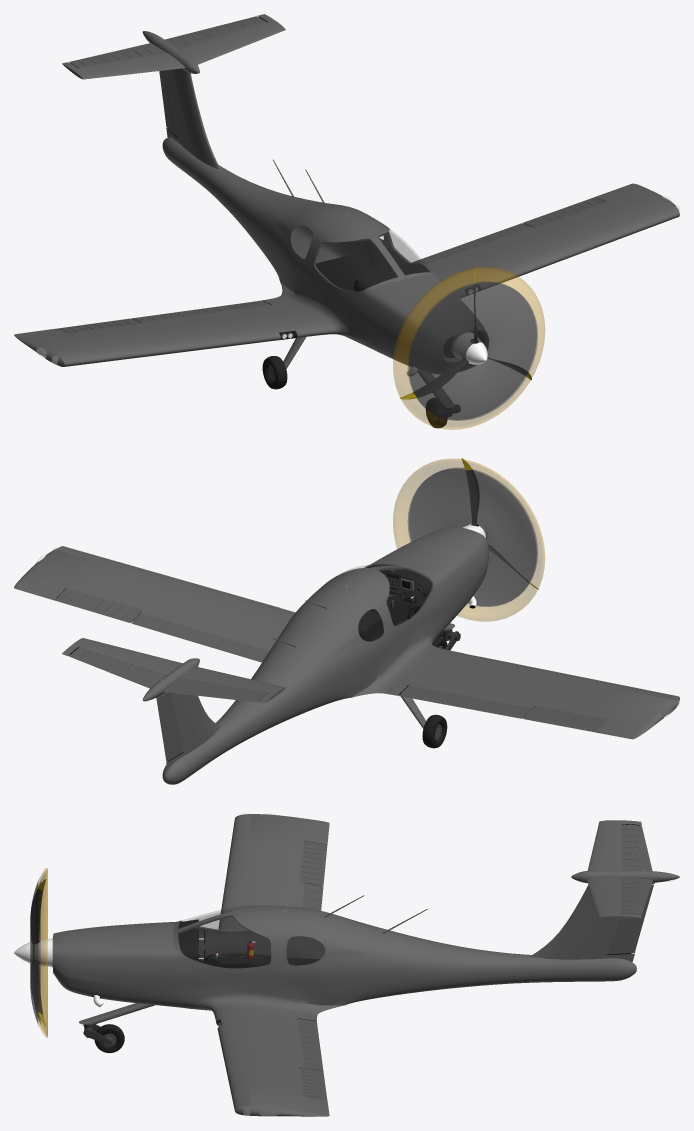
The model's file is Aircraft.glb.
3 renders of one model, top to bottom at view 1: azimuth 30°, elevation 25°; view 2: azimuth 150°, elevation 25°; view 3: azimuth 270°, elevation 25°, orthographic. The views are drawn at different scales.
Visible parts, largest first — view 1: FuseLage, Fans_Rotating, WingL, WingR, CabinDoor, HorTail, Tail, Floor, ControlFace_ElevatorL, ControlFace_ElevatorR, ControlFace_FlapsL, Cockpit (+5 smaller); view 2: FuseLage, Fans_Rotating, WingL, WingR, CabinDoor, HorTail, Tail, Cockpit, ControlFace_FlapsL, ControlFace_FlapsR, ControlFace_ElevatorL, ControlFace_AileronL (+5 smaller); view 3: FuseLage, WingL, WingR, CabinDoor, Tail, HorTail, Fans_Rotating, ControlFace_ElevatorR, Cockpit, Axis_Rudder.001, ControlFace_AileronR, ControlFace_FlapsL (+7 smaller).
Boxes of the visible parts, bbox=[...] form: FuseLage: bbox=[162, 128, 488, 407]; Fans_Rotating: bbox=[393, 267, 544, 429]; WingL: bbox=[424, 183, 679, 297]; WingR: bbox=[14, 298, 328, 366]; CabinDoor: bbox=[313, 218, 434, 292]; HorTail: bbox=[62, 14, 285, 79]; Tail: bbox=[142, 31, 216, 162]; Floor: bbox=[316, 254, 378, 291]; ControlFace_ElevatorL: bbox=[165, 16, 266, 49]; ControlFace_ElevatorR: bbox=[69, 43, 166, 68]; ControlFace_FlapsL: bbox=[411, 223, 530, 265]; Cockpit: bbox=[354, 263, 429, 291]; FuseLage: bbox=[162, 526, 488, 784]; Fans_Rotating: bbox=[393, 458, 544, 621]; WingL: bbox=[14, 546, 295, 650]; WingR: bbox=[385, 647, 679, 739]; CabinDoor: bbox=[324, 563, 434, 627]; HorTail: bbox=[62, 638, 285, 703]; Tail: bbox=[142, 658, 216, 752]; Cockpit: bbox=[358, 565, 431, 641]; ControlFace_FlapsL: bbox=[131, 613, 269, 662]; ControlFace_FlapsR: bbox=[399, 685, 532, 718]; ControlFace_ElevatorL: bbox=[69, 647, 166, 688]; ControlFace_AileronL: bbox=[55, 587, 142, 622]; FuseLage: bbox=[52, 895, 636, 1024]; WingL: bbox=[213, 1006, 329, 1116]; WingR: bbox=[218, 813, 329, 930]; CabinDoor: bbox=[173, 905, 273, 970]; Tail: bbox=[538, 870, 679, 955]; HorTail: bbox=[587, 820, 652, 919]; Fans_Rotating: bbox=[30, 868, 47, 1037]; ControlFace_ElevatorR: bbox=[621, 824, 652, 871]; Cockpit: bbox=[178, 919, 259, 968]; Axis_Rudder.001: bbox=[607, 884, 653, 954]; ControlFace_AileronR: bbox=[299, 841, 327, 885]; ControlFace_FlapsL: bbox=[297, 1018, 323, 1071].
Size of the model in its own units: 13 by 3.78 by 12.24.
50 materials, 23 textured.
